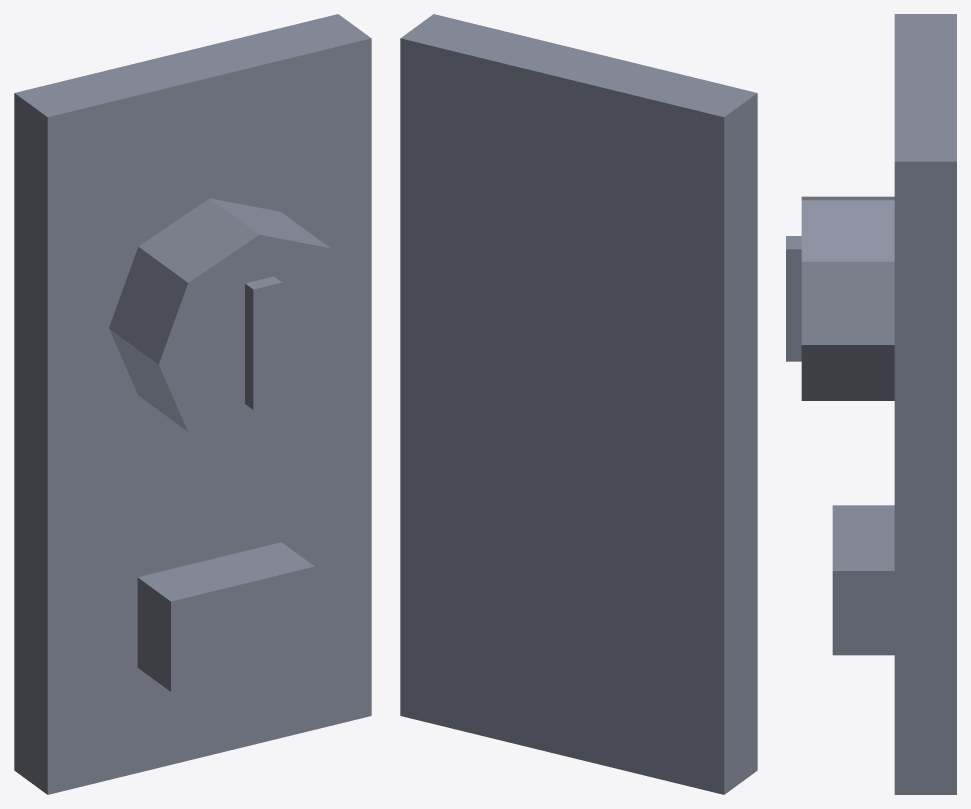
Rendered from Door_Lock.fbx.
3 views of the same model, side by side, from view 1: azimuth 30°, elevation 25°; view 2: azimuth 150°, elevation 25°; view 3: azimuth 270°, elevation 25° (orthographic). The views are drawn at different scales.
Visible parts, largest first — view 1: Door_Lock; view 2: Door_Lock; view 3: Door_Lock.
Boxes of the visible parts, x1,y1,x2,y2 form: Door_Lock: [14, 14, 371, 794]; Door_Lock: [400, 14, 757, 794]; Door_Lock: [786, 14, 956, 794].
Size of the model in its own units: 0.045 by 0.09 by 0.022.
1 material, 1 textured.
